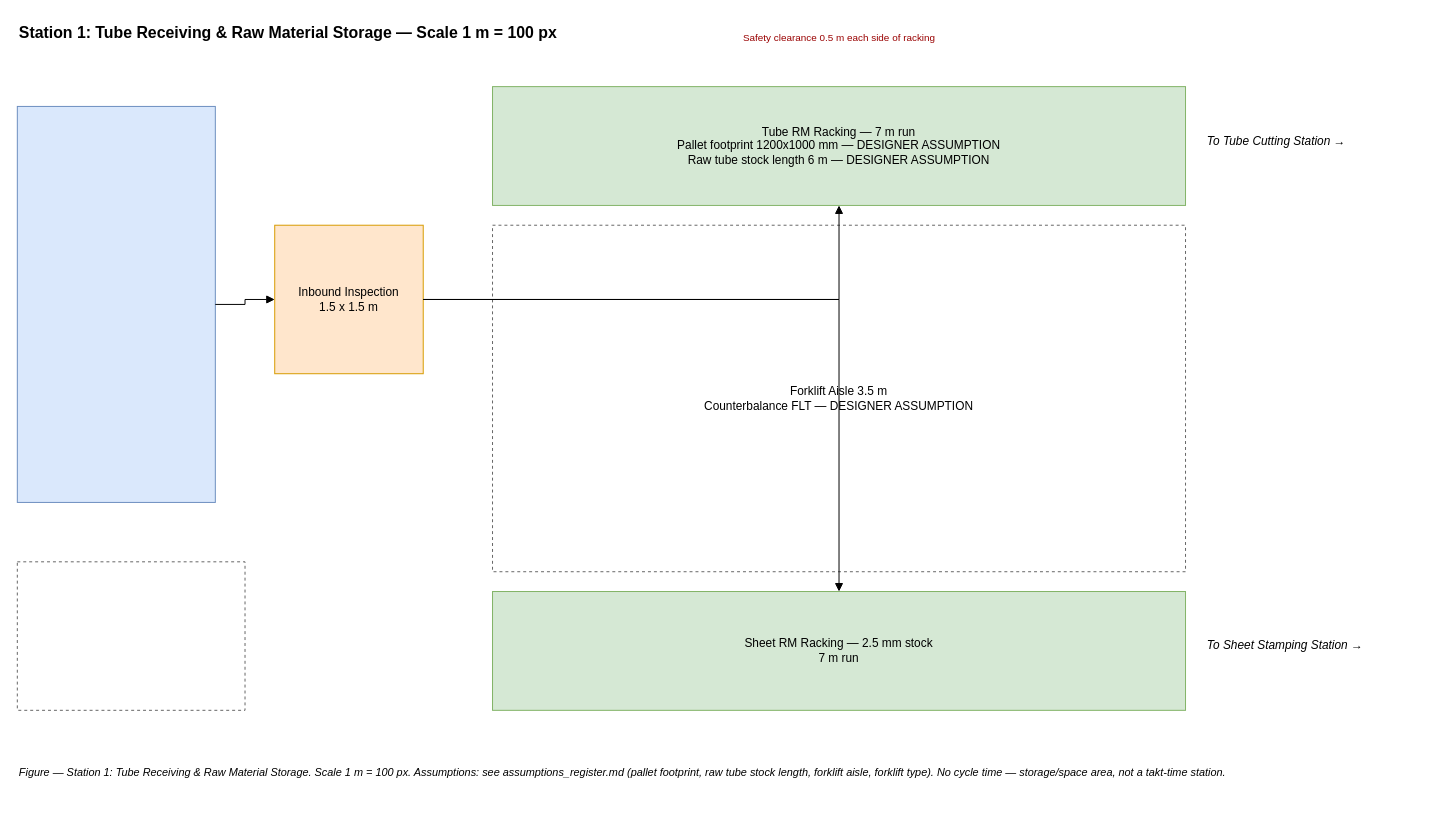
This 1440x836 diagram has some shape labels left out. The shapes that lost their labels are listed below. From the top down, each one's centre as x and y in pixels, then its label:
At (115,303): "Receiving Dock Door (2 m wide — DESIGNER ASSUMPTION)".
At (130,635): "Pedestrian Aisle 1.5 m".
